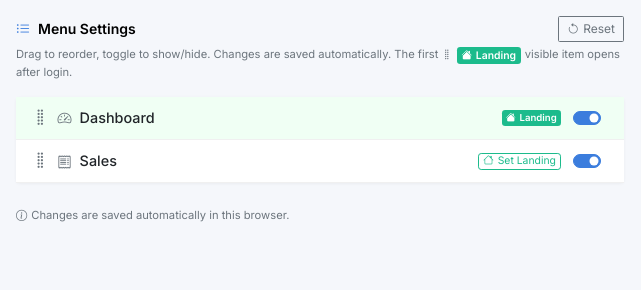
Test: SidebarSettings save error visibility › shows sync error alert when saveSidebarConfig resolves with synced:false and error
The width and height of the screenshot is (641, 290).
Trigger auto-save by toggling a switch
Click the switch named "Hide from sidebar" in the row of "Dashboard" at (587, 118), box [573,111,601,125]
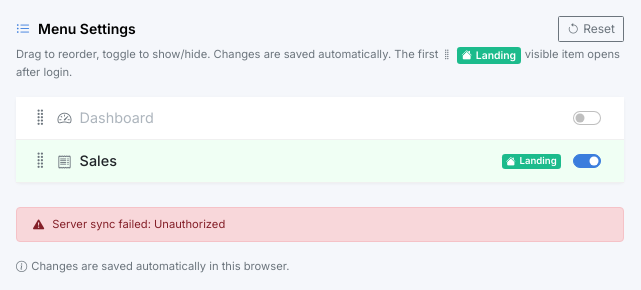
expect the text "Server sync failed: Unauthorized" is shown: met, box [16,208,624,242]
